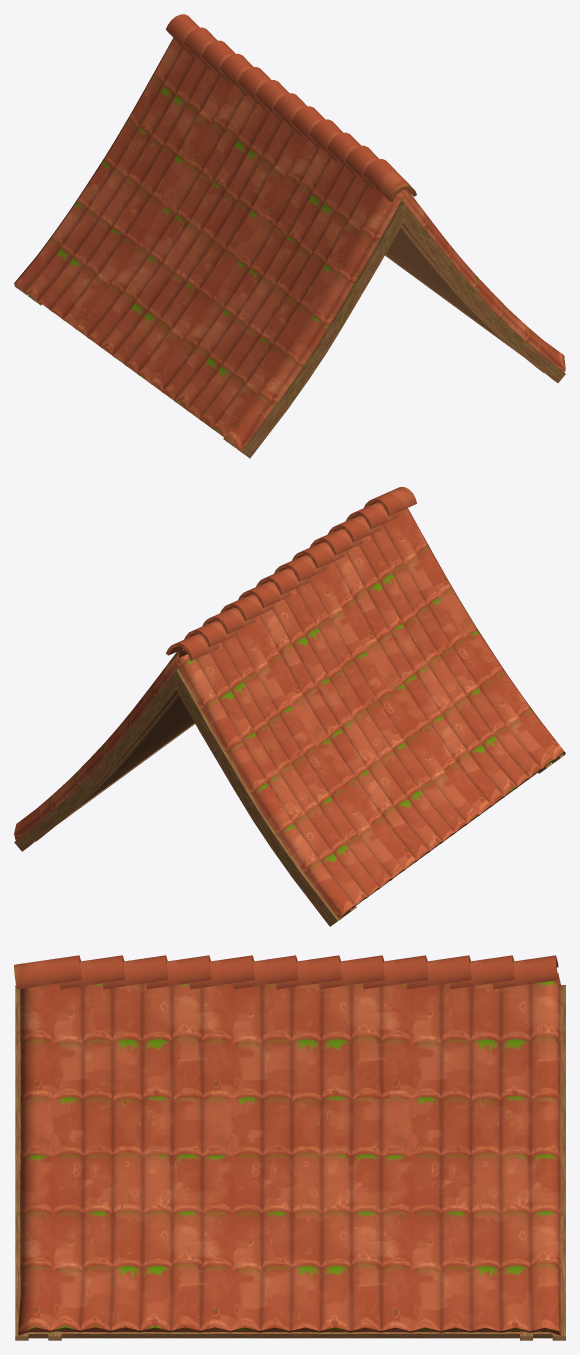
The model's file is Roof_RoundTiles_6x8.glb.
3 renders of one model, top to bottom at view 1: azimuth 30°, elevation 25°; view 2: azimuth 150°, elevation 25°; view 3: azimuth 270°, elevation 25°, orthographic. The views are drawn at different scales.
Visible parts, largest first — view 1: Roof_RoundTiles_6x8; view 2: Roof_RoundTiles_6x8; view 3: Roof_RoundTiles_6x8.
Boxes of the visible parts, x1,y1,x2,y2 form: Roof_RoundTiles_6x8: (14, 14, 565, 458); Roof_RoundTiles_6x8: (14, 487, 565, 926); Roof_RoundTiles_6x8: (14, 955, 565, 1340).
Size of the model in its own units: 8.25 by 5.67 by 9.68.
2 materials, 2 textured.
